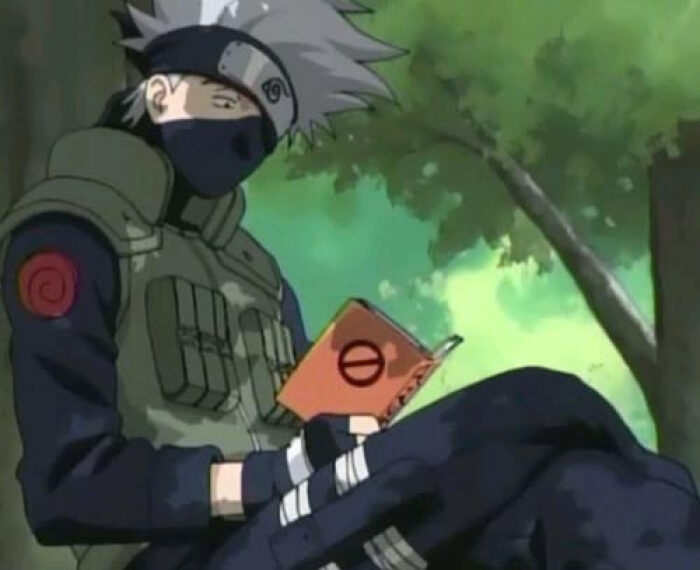kakashi: (138, 22, 300, 202)
